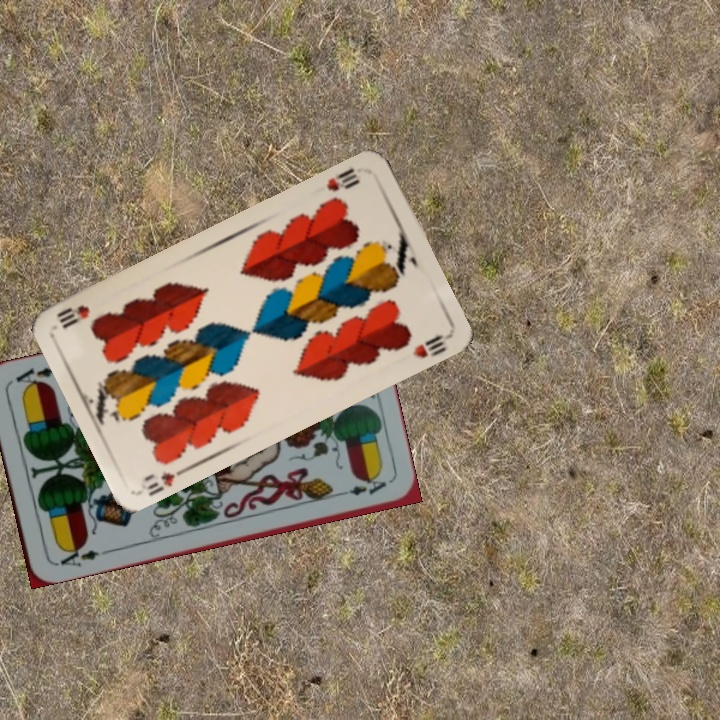EA: (51, 541, 102, 570)
H10: (140, 462, 191, 499), (322, 164, 362, 194)
